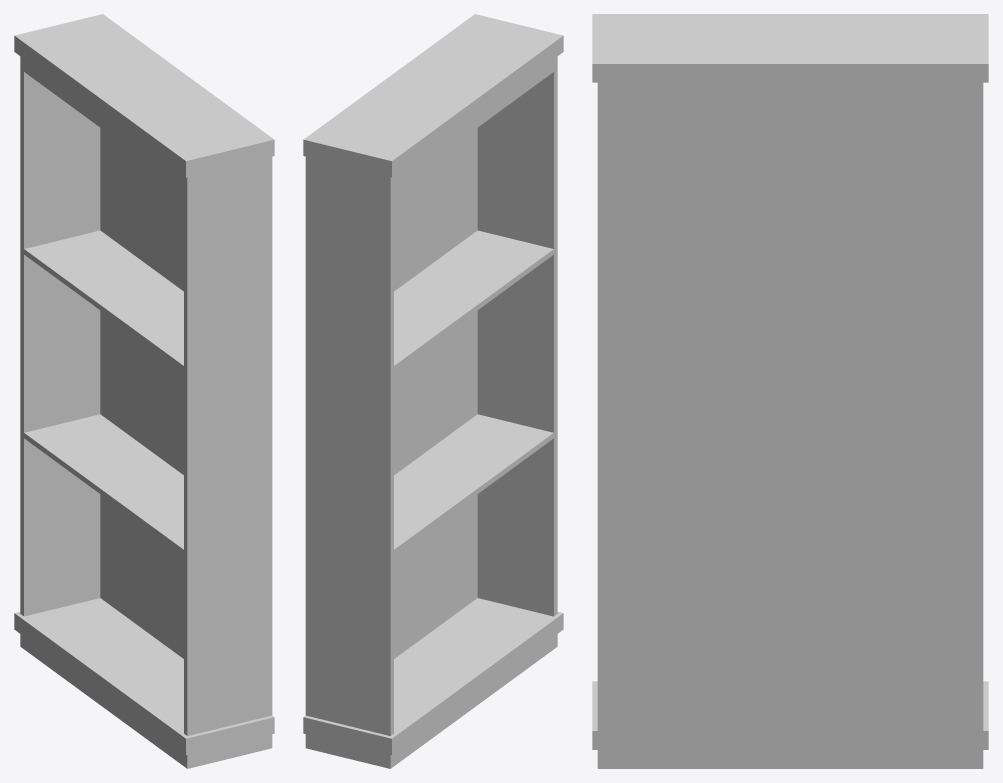
Rendered from Bookcase06.fbx.
The picture shows the model from 3 angles, left to right: view 1: azimuth 30°, elevation 25°; view 2: azimuth 150°, elevation 25°; view 3: azimuth 270°, elevation 25°; orthographic projection. The views are drawn at different scales.
Parts seen in each view (by area): view 1: Bookcase06; view 2: Bookcase06; view 3: Bookcase06.
Boxes of the visible parts, left/top/right/bottom form: Bookcase06: left=14, top=14, right=274, bottom=768; Bookcase06: left=303, top=14, right=563, bottom=768; Bookcase06: left=592, top=14, right=988, bottom=768.
Size of the model in its own units: 0.2821 by 0.9482 by 1.86.
